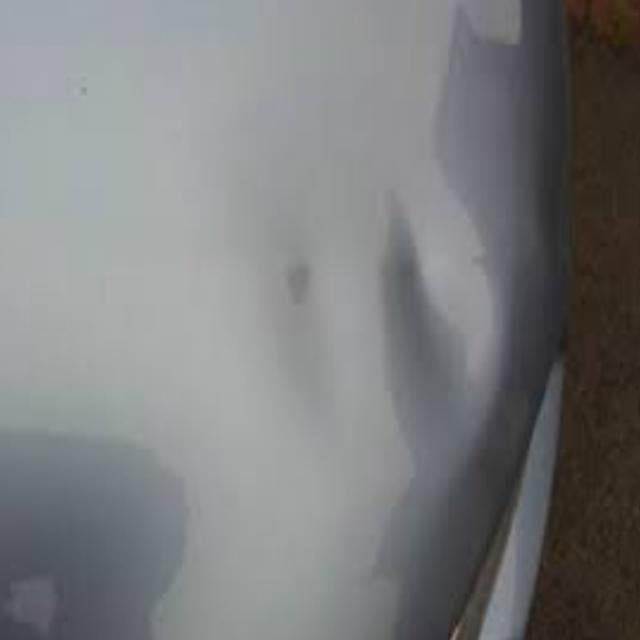dents: (333, 182, 511, 478)
